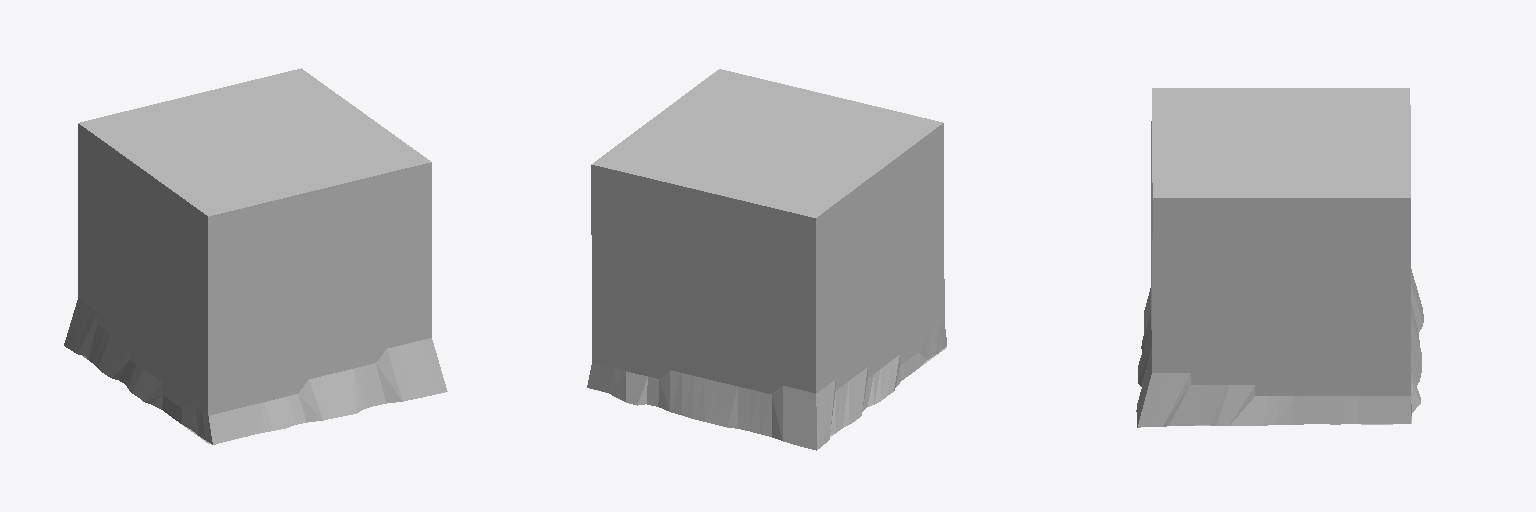
File: mod0183.obj
3 views of the same model, side by side, from view 1: azimuth 30°, elevation 25°; view 2: azimuth 150°, elevation 25°; view 3: azimuth 270°, elevation 25° (orthographic).
Visible parts, largest first — view 1: Box001; view 2: Box001; view 3: Box001.
Part boxes in pixels (x1,y1,x2,y2): Box001: (64, 68, 447, 444); Box001: (587, 69, 946, 450); Box001: (1136, 88, 1423, 427).
Bounding box in the file's own units: 0.5799 × 0.522 × 0.5979.